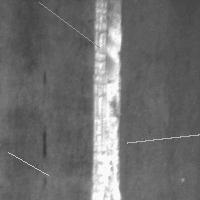scratches: (89, 1, 125, 197), (34, 0, 104, 52), (3, 147, 53, 180), (122, 126, 200, 147), (38, 124, 52, 164)
